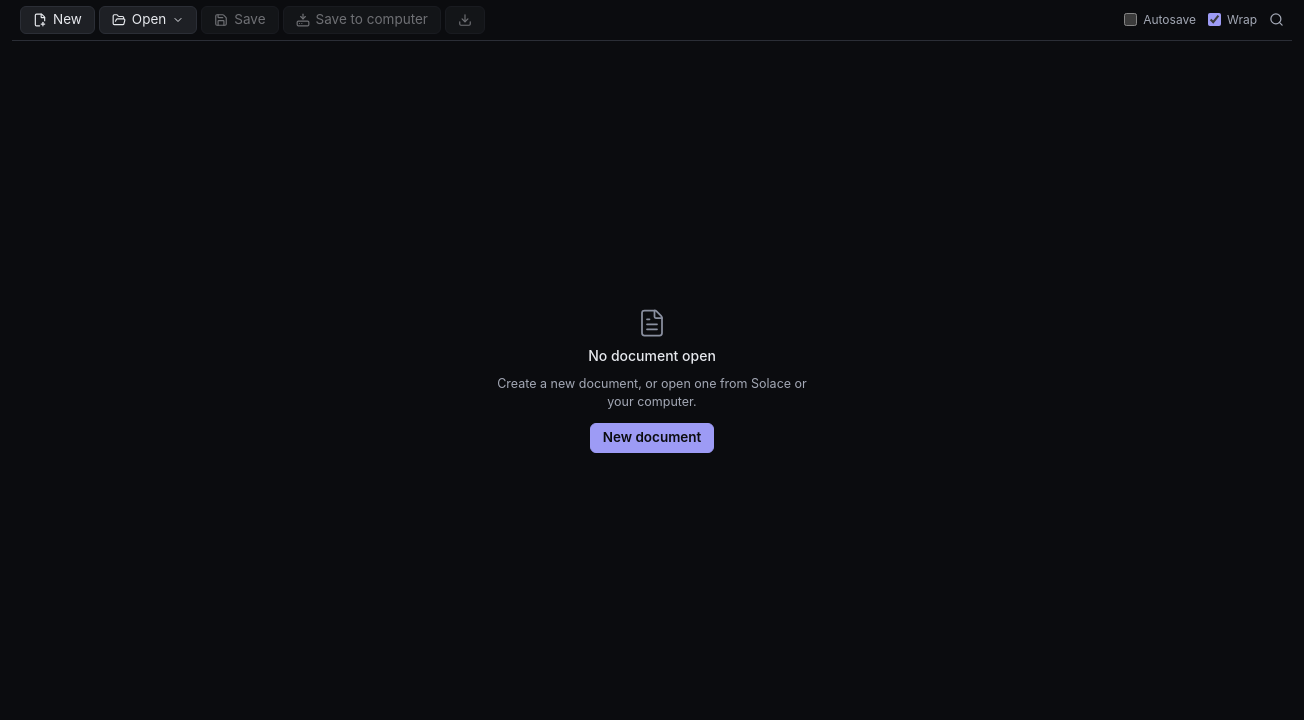
Test: Text Editor › shows an empty state and creates a document
Expected: the text "No document open" is shown, [588,346,716,366]
Click the button with aria-label "New document" at point(57, 20), box [20,6,95,34]
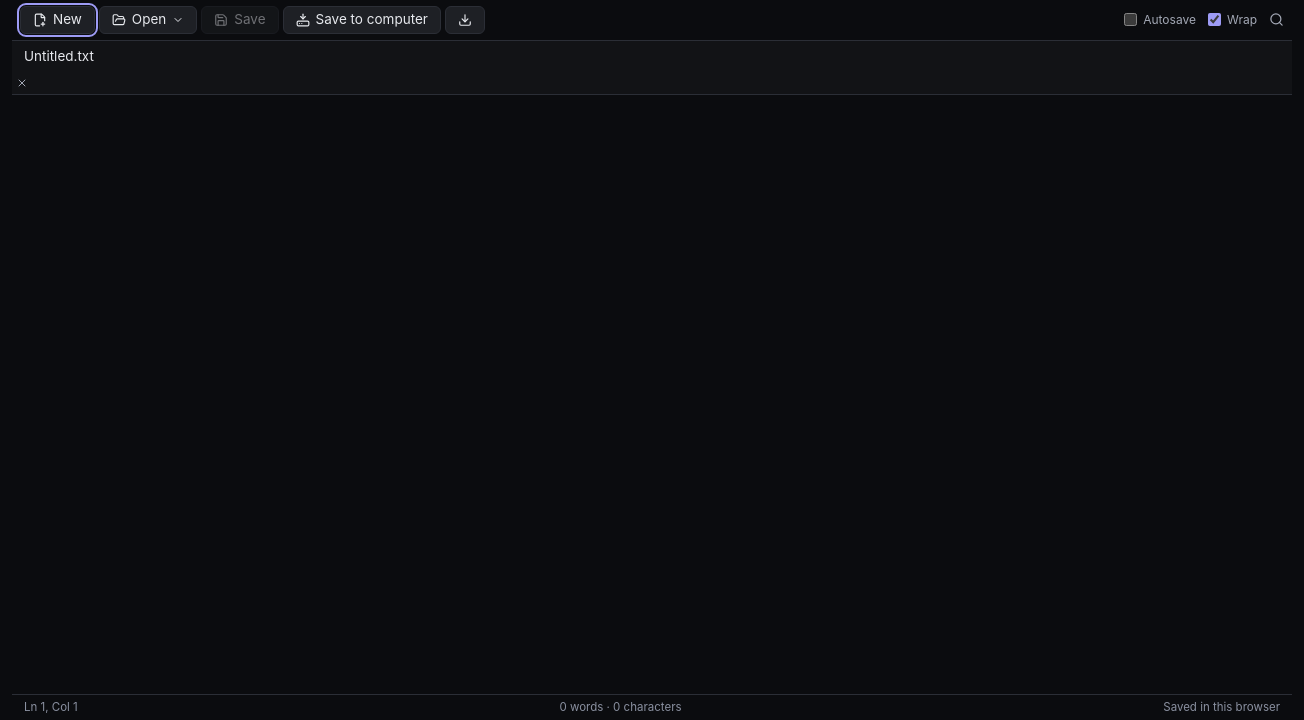
Result: the tab "Untitled.txt" is shown at [12,41,98,73]
Result: the text box named "Editing Untitled.txt" is shown
